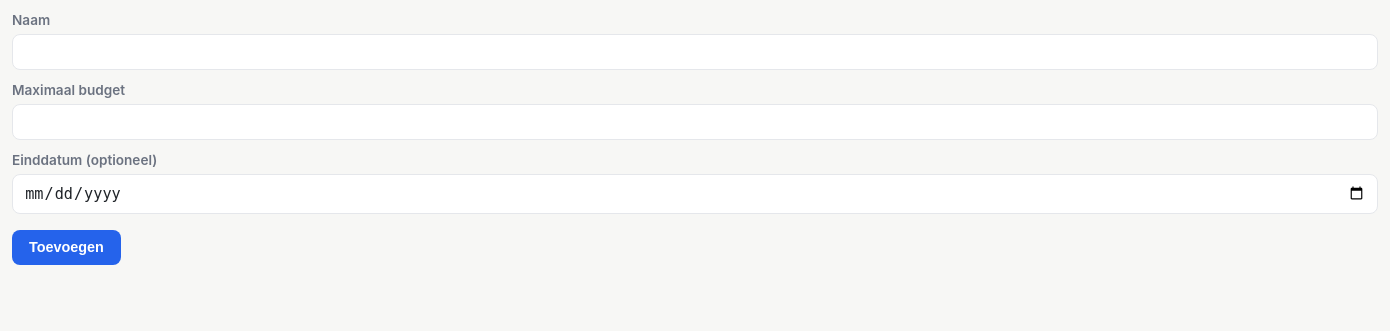
Test: CategoryForm › shows an error message when submitting fails
What coordinates should you click on to do the following:
click the button "Toevoegen"
I would click on:
 (66, 247)
Its box is [12,230,121,265].
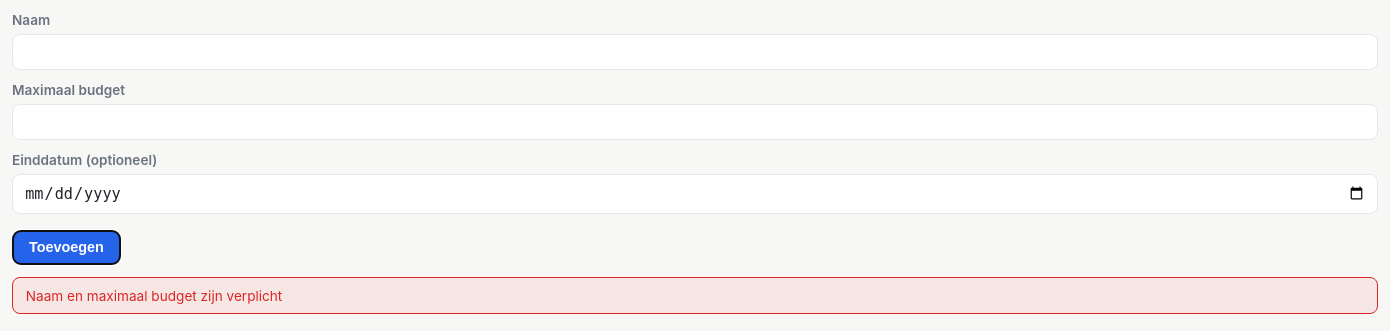
Result: the message reads "Naam en maximaal budget zijn verplicht" at [26,288,282,304]
